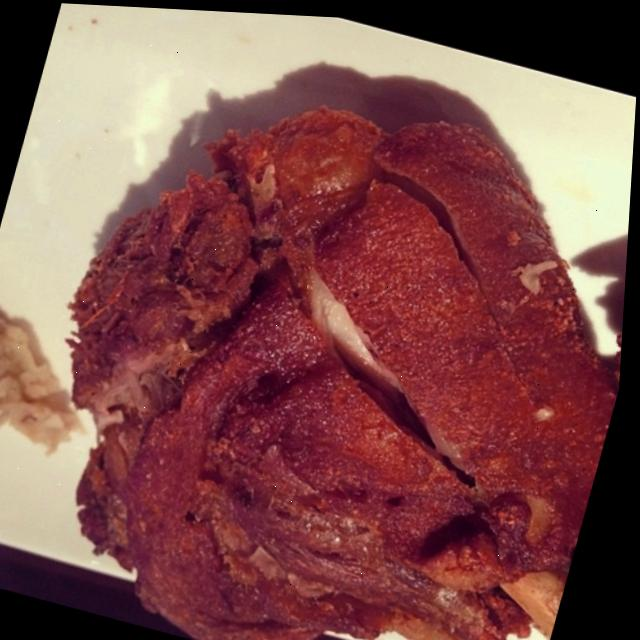猪肉菜式: (0, 23, 639, 640)
